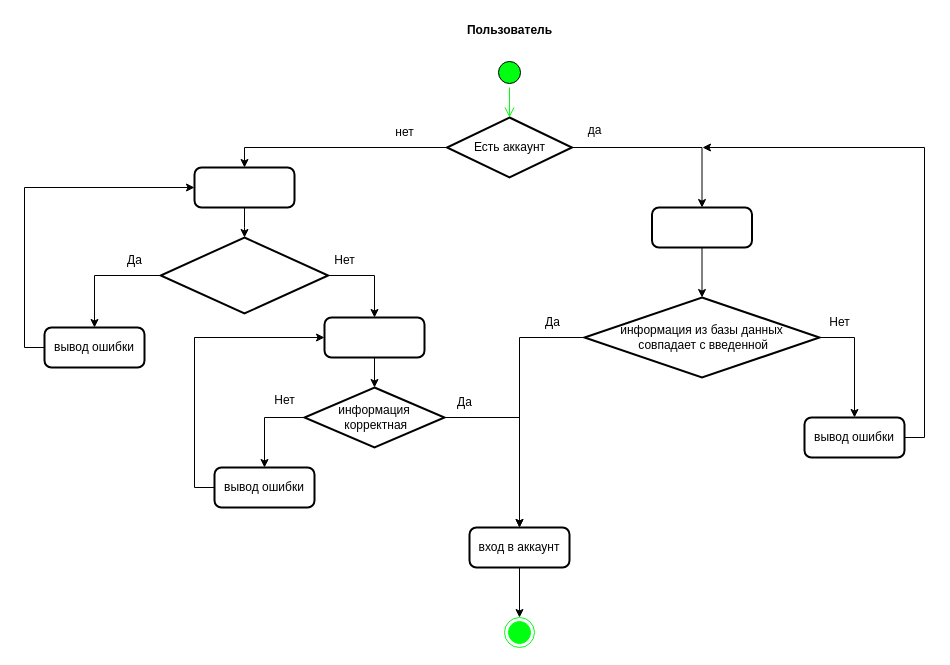
Some shapes in this 950 by 665 pixel diagram are drawn without their labels. The box of each missing label's shape, as (x1, y1, x2, y2) in pixels:
в базе данных найден такой никнейм: (159, 236, 329, 314)
ввод никнейма: (193, 166, 295, 208)
ввод никнейма и пароля: (650, 206, 752, 248)
ввод остальной информации: (323, 316, 425, 358)
